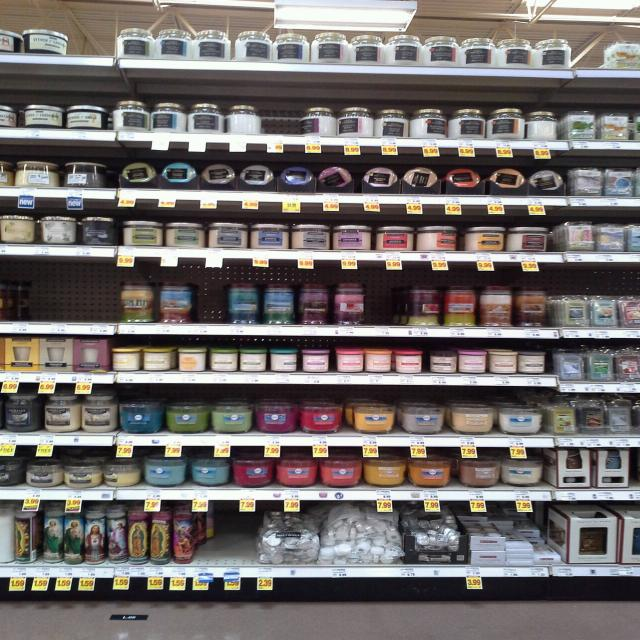void: (56, 261, 102, 336), (214, 509, 255, 580), (8, 263, 49, 333), (371, 283, 404, 345), (268, 97, 298, 157), (73, 21, 112, 56), (581, 34, 607, 84), (201, 282, 223, 341)
